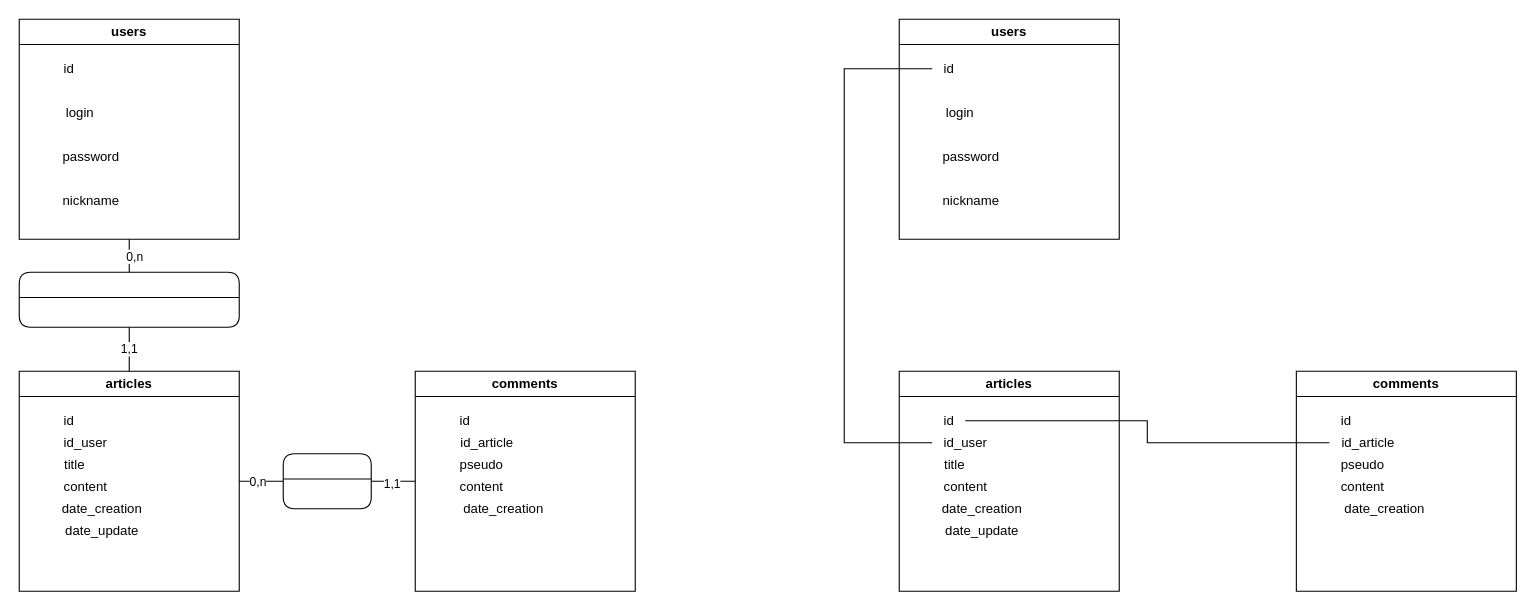
Some shapes in this 1536 by 611 pixel diagram are drawn without their labels. Each missing label, with the box of its shape:
contient: (282, 453, 371, 509)
créés par: (18, 271, 239, 327)
